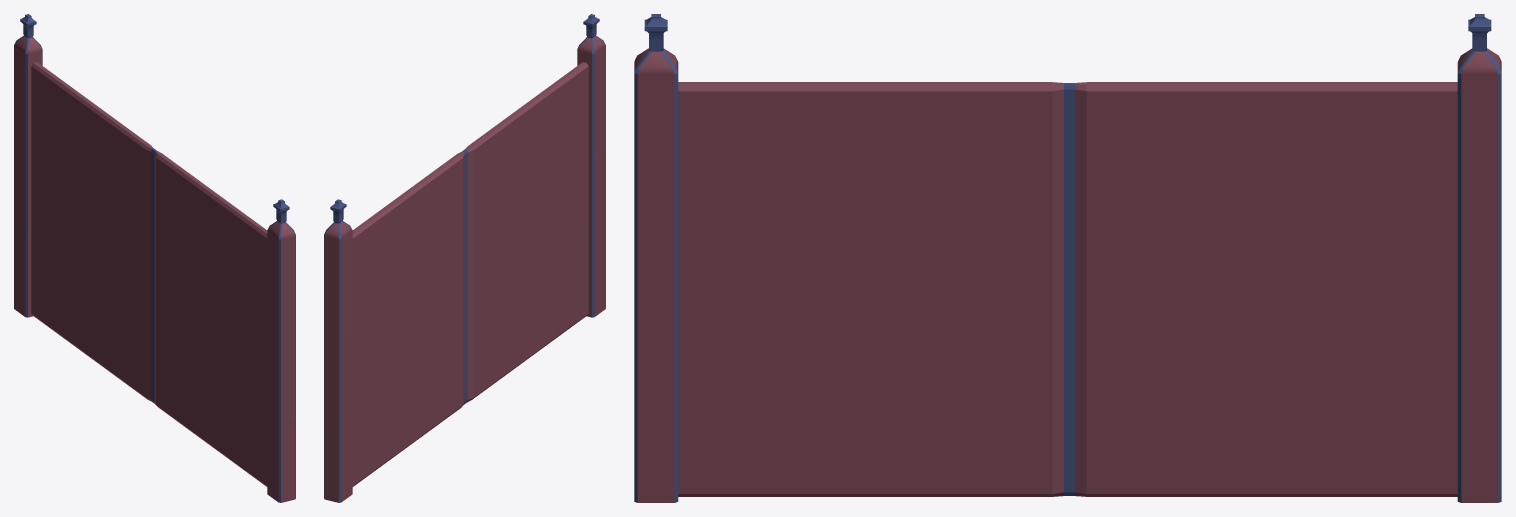
File: Gate.fbx
3 views of the same model, side by side, from view 1: azimuth 30°, elevation 25°; view 2: azimuth 150°, elevation 25°; view 3: azimuth 270°, elevation 25° (orthographic). The views are drawn at different scales.
Parts seen in each view (by area): view 1: GATE; view 2: GATE; view 3: GATE.
Part boxes in pixels (x1,y1,x2,y2): GATE: [14, 14, 295, 502]; GATE: [324, 14, 605, 502]; GATE: [634, 14, 1501, 502].
Size of the model in its own units: 0.217 by 3.51 by 5.75.
